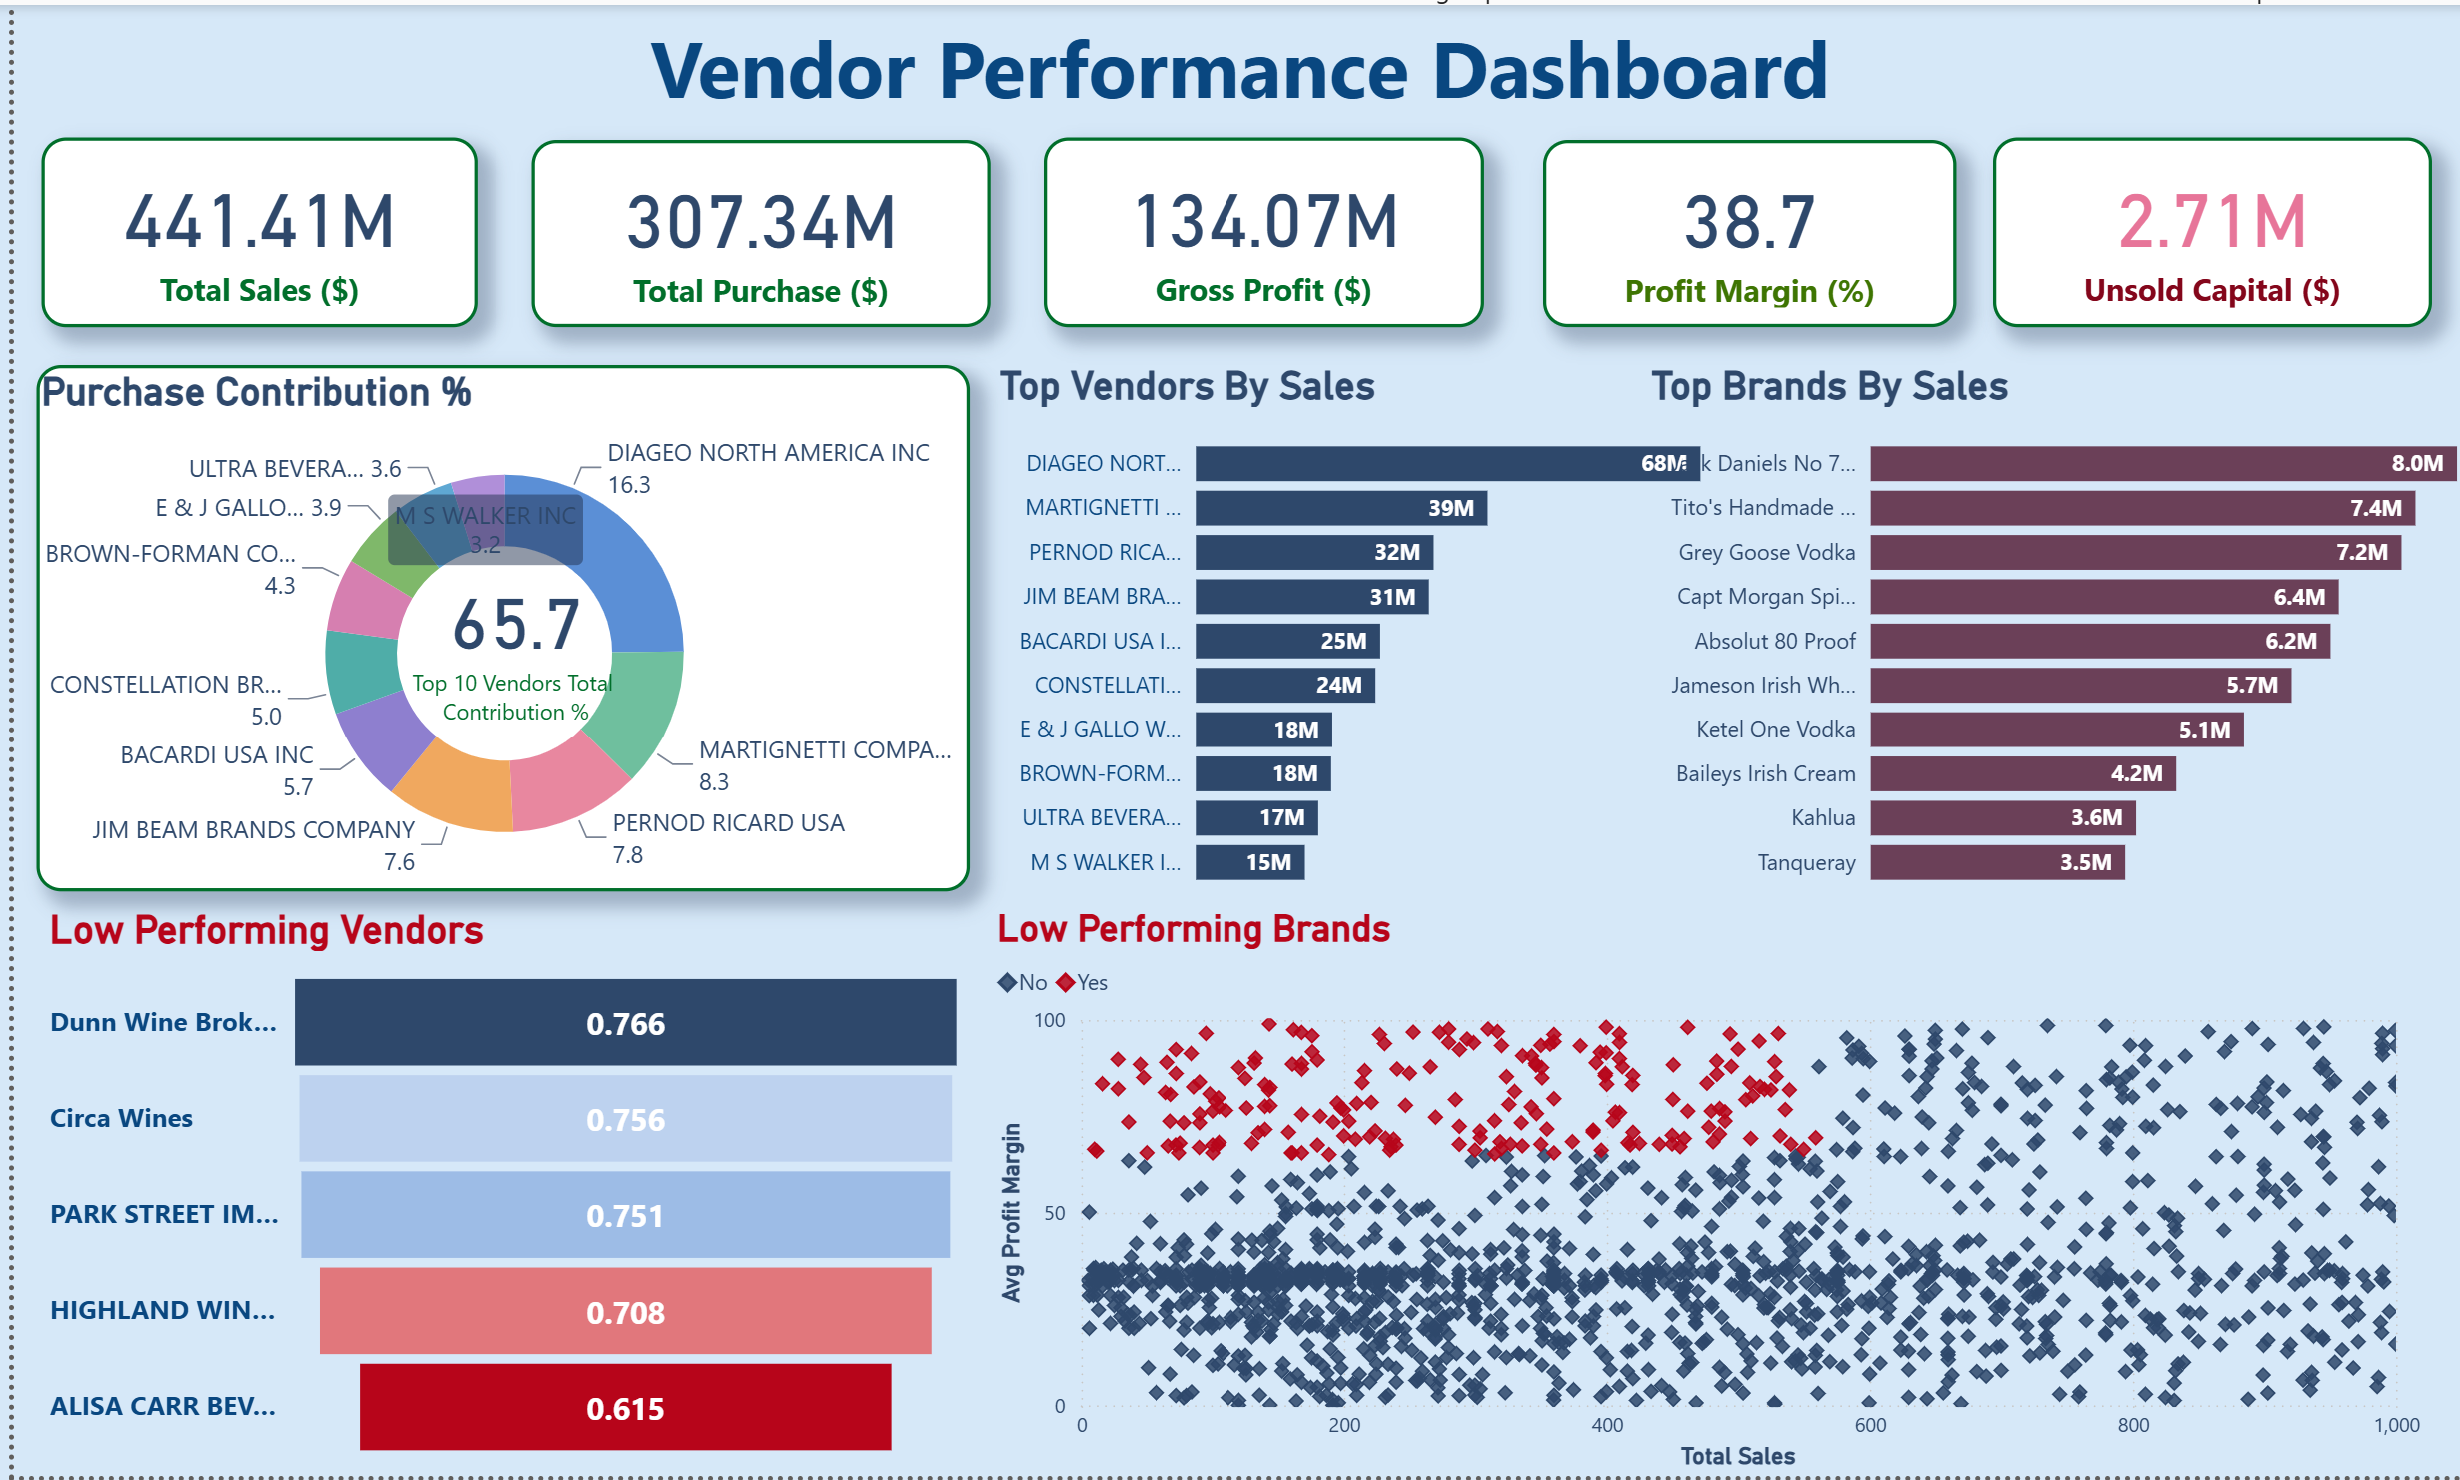

Layout of this report page (visuals, bound fields, positions):
{"tool":"powerbi","page":{"name":"Page 1","canvas":[1500,900],"ordinal":0},"visuals":[{"type":"card","fields":{"Values":["Sum(vendor_sales_summary.TotalPurchaseDollars)"]},"box":[315.8,82.4,280.9,114.6],"z":0},{"type":"card","fields":{"Values":["Sum(vendor_sales_summary.TotalSalesDollars)"]},"box":[16.8,81,266.9,116],"z":1000},{"type":"card","fields":{"Values":["Sum(vendor_sales_summary.GrossProfit)"]},"box":[630.2,81,269.7,116],"z":2000},{"type":"card","fields":{"Values":["Avg(vendor_sales_summary.ProfitMargin)"]},"box":[934.8,82.4,252.9,114.6],"z":3000},{"type":"card","fields":{"Values":["Sum(vendor_sales_summary.UnsoldCapital)"]},"box":[1210.1,81,268.3,116],"z":4000},{"type":"textbox","box":[0,0,1500,83],"z":5000},{"type":"donutChart","title":"Purchase Contribution % ","fields":{"Category":["PurchaseContribution.VendorName"],"Y":["Sum(PurchaseContribution.PurchaseContribution%)"]},"box":[14.5,219.4,571,322.6],"z":6000},{"type":"card","fields":{"Values":["Sum(PurchaseContribution.PurchaseContribution%)"]},"box":[211.8,266.7,188.2,233.3],"z":7000},{"type":"barChart","title":"Top Vendors By Sales","fields":{"Category":["vendor_sales_summary.VendorName"],"Y":["Sum(vendor_sales_summary.TotalSalesDollars)"]},"box":[597.3,219.2,447.9,332.9],"z":8000},{"type":"barChart","title":"Top Brands By Sales","fields":{"Category":["vendor_sales_summary.Description"],"Y":["Sum(vendor_sales_summary.TotalSalesDollars)"]},"box":[995.9,219.2,504.1,332.9],"z":9000},{"type":"funnel","title":"Low Performing Vendors","fields":{"Category":["LowTurnoverVendor.VendorName"],"Y":["Avg(LowTurnoverVendor.AvgStockTurnOver)"]},"box":[16.1,551.6,569.4,348.4],"z":10000},{"type":"scatterChart","title":"Low Performing Brands","fields":{"Category":["BrandPerformance.Description"],"Series":["BrandPerformance.TargetBrand"],"X":["Sum(BrandPerformance.TotalSales)"],"Y":["Sum(BrandPerformance.AvgProfitMargin)"]},"box":[596.8,551.6,880.6,348.4],"z":11000}]}

Visuals, with their boxes in screenshot pixels (x1, y1, x2, y2), scaled from the page's 1500x900 canvas onto the 2460x1480 screenshot:
card - Sum(vendor_sales_summary.TotalPurchaseDollars): box=[518, 136, 979, 324]
card - Sum(vendor_sales_summary.TotalSalesDollars): box=[28, 133, 465, 324]
card - Sum(vendor_sales_summary.GrossProfit): box=[1034, 133, 1476, 324]
card - Avg(vendor_sales_summary.ProfitMargin): box=[1533, 136, 1948, 324]
card - Sum(vendor_sales_summary.UnsoldCapital): box=[1985, 133, 2425, 324]
textbox: box=[0, 0, 2459, 136]
"Purchase Contribution % " donutChart: box=[24, 361, 960, 891]
card - Sum(PurchaseContribution.PurchaseContribution%): box=[347, 439, 656, 822]
"Top Vendors By Sales" barChart: box=[980, 360, 1714, 908]
"Top Brands By Sales" barChart: box=[1633, 360, 2459, 908]
"Low Performing Vendors" funnel: box=[26, 907, 960, 1479]
"Low Performing Brands" scatterChart: box=[979, 907, 2423, 1479]
